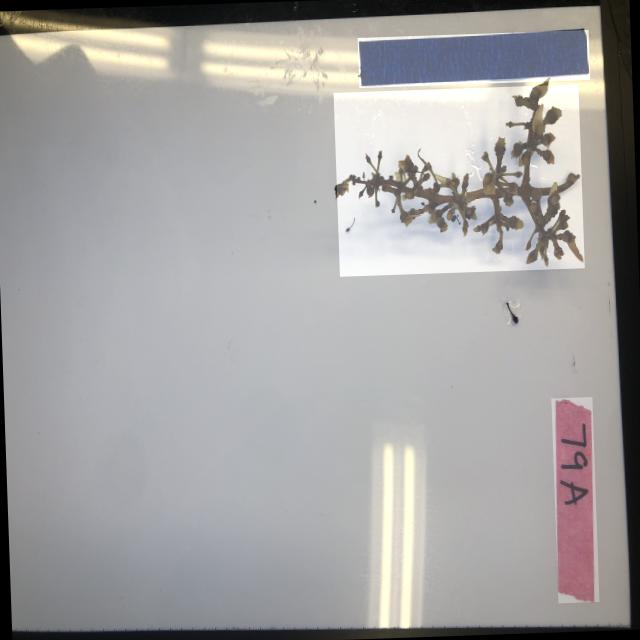index: (550, 397, 598, 602)
measure_label: (356, 29, 589, 88)
rachis_cluster: (332, 84, 583, 276)
